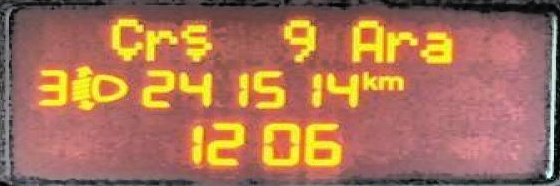0: (259, 120, 300, 166)
1: (187, 120, 203, 166), (234, 69, 249, 109), (308, 70, 322, 107)
2: (205, 120, 244, 165), (139, 67, 174, 108)
3: (33, 64, 67, 107)
4: (177, 68, 213, 107), (325, 70, 360, 107)
5: (250, 69, 284, 109)
6: (302, 120, 342, 166)
9: (282, 18, 318, 62)
X: (348, 19, 382, 65), (108, 17, 142, 61), (177, 24, 213, 60), (415, 28, 452, 63), (382, 27, 417, 62), (143, 27, 177, 61), (375, 74, 404, 90), (360, 70, 375, 89)
